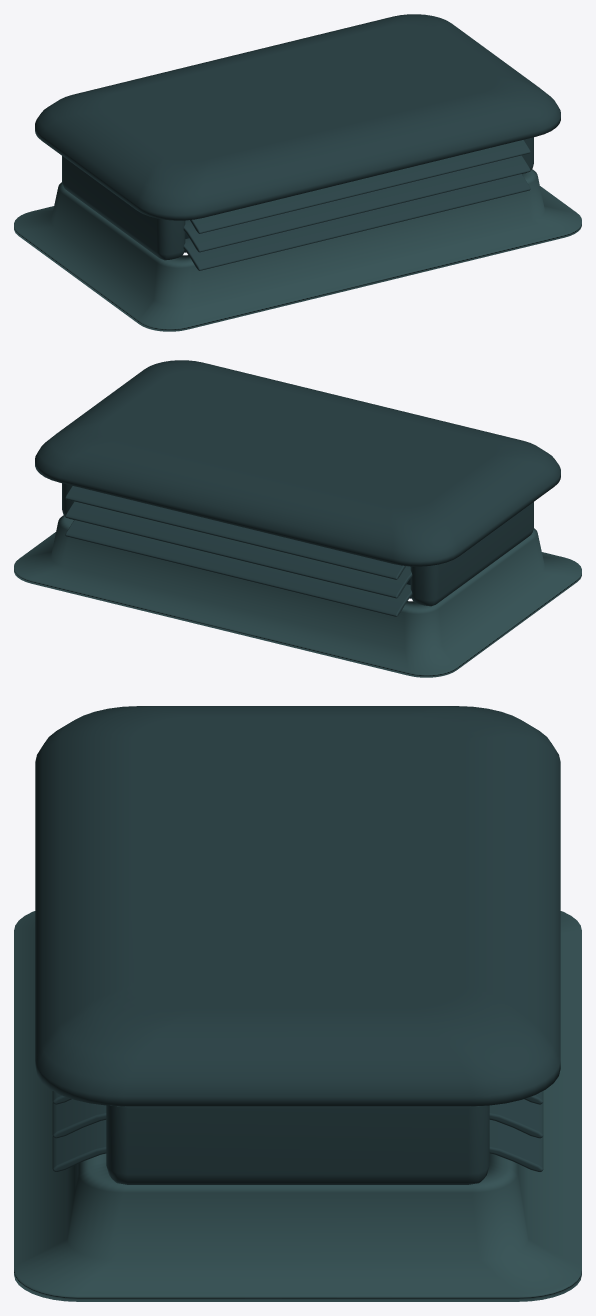
Rendered from double_sided.glb.
3 renders of one model, top to bottom at view 1: azimuth 30°, elevation 25°; view 2: azimuth 150°, elevation 25°; view 3: azimuth 270°, elevation 25°, orthographic. The views are drawn at different scales.
Parts seen in each view (by area): view 1: formed_rain_cowl, flashing_and_curb, six_broad_curved_louvers, two_formed_end_cheeks; view 2: formed_rain_cowl, flashing_and_curb, six_broad_curved_louvers, two_formed_end_cheeks; view 3: formed_rain_cowl, flashing_and_curb, two_formed_end_cheeks, six_broad_curved_louvers.
Part boxes in pixels (<box>): formed_rain_cowl: <box>35,14,560,220</box>; flashing_and_curb: <box>14,169,581,331</box>; six_broad_curved_louvers: <box>183,140,530,270</box>; two_formed_end_cheeks: <box>62,137,533,260</box>; formed_rain_cowl: <box>35,360,560,566</box>; flashing_and_curb: <box>14,515,581,677</box>; six_broad_curved_louvers: <box>65,486,412,616</box>; two_formed_end_cheeks: <box>62,483,533,606</box>; formed_rain_cowl: <box>35,706,560,1106</box>; flashing_and_curb: <box>14,911,581,1301</box>; two_formed_end_cheeks: <box>106,1105,489,1184</box>; six_broad_curved_louvers: <box>52,1091,543,1171</box>.
Bounding box in the file's own units: 2.6 × 0.76 × 1.6.
